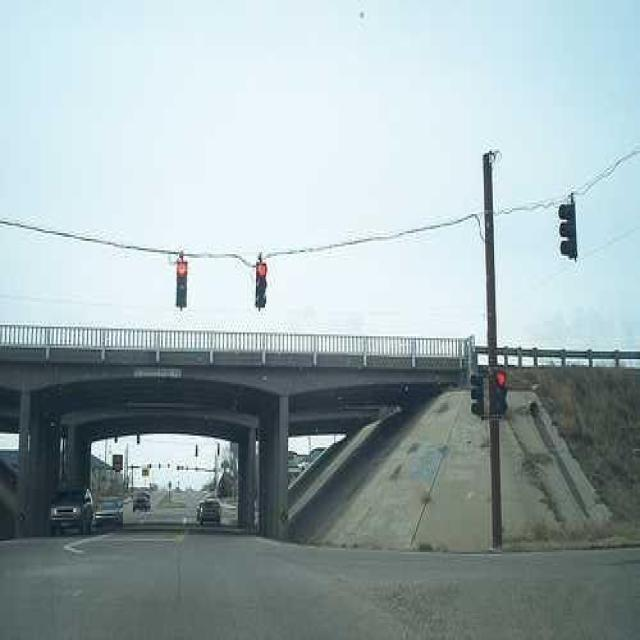Traffic Light -Red-: (253, 262, 269, 310), (493, 365, 508, 414), (176, 258, 190, 309)
